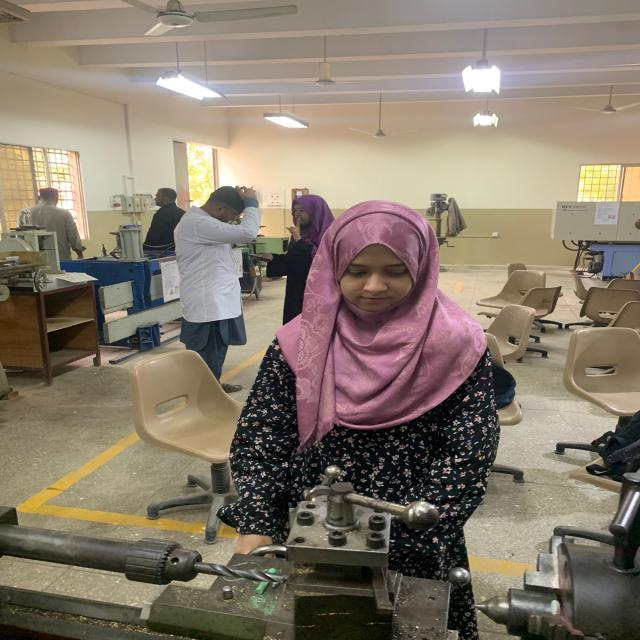labcoat: (170, 201, 262, 324)
